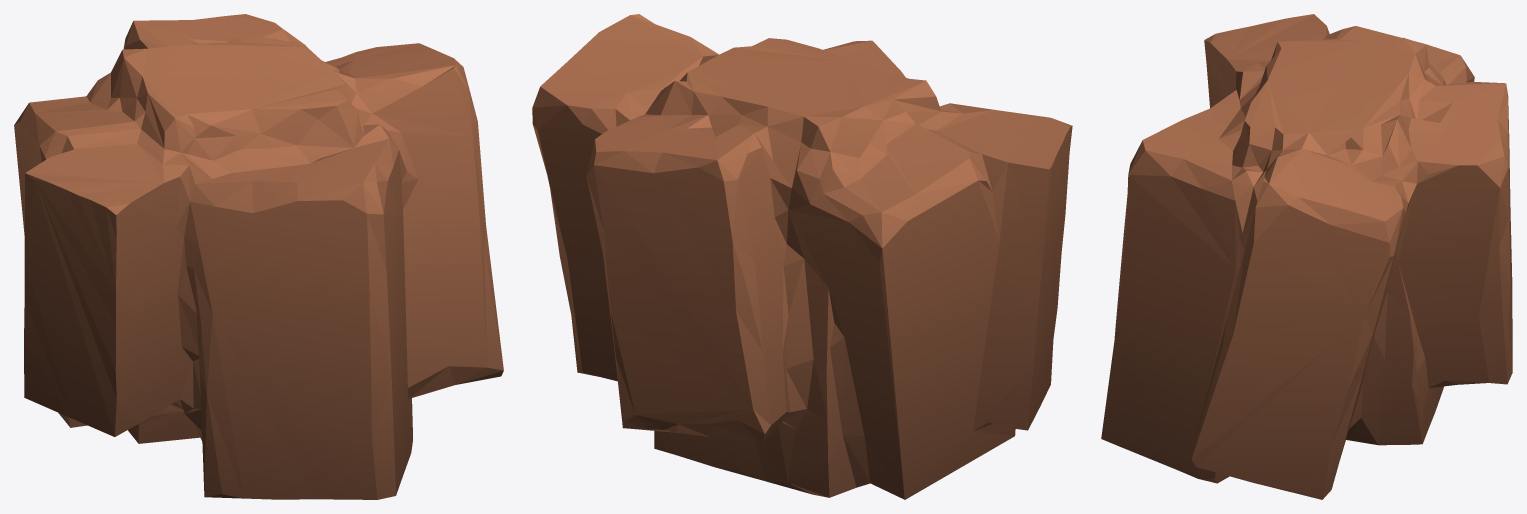
File: mountain01.fbx
The picture shows the model from 3 angles, left to right: view 1: azimuth 30°, elevation 25°; view 2: azimuth 150°, elevation 25°; view 3: azimuth 270°, elevation 25°; orthographic projection. The views are drawn at different scales.
Parts seen in each view (by area): view 1: Mountain01; view 2: Mountain01; view 3: Mountain01.
Part boxes in pixels (x1,y1,x2,y2): Mountain01: [14, 14, 503, 499]; Mountain01: [532, 14, 1072, 499]; Mountain01: [1101, 14, 1512, 499].
Size of the model in its own units: 1319 by 1078 by 1103.
